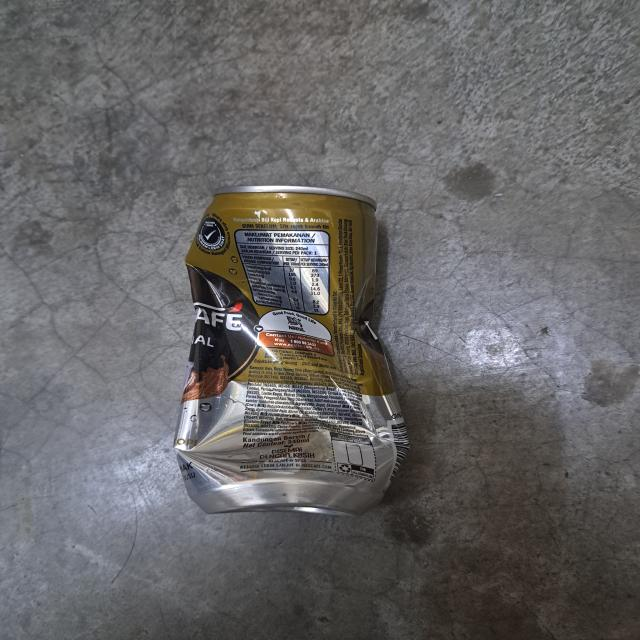can: (175, 180, 411, 516)
